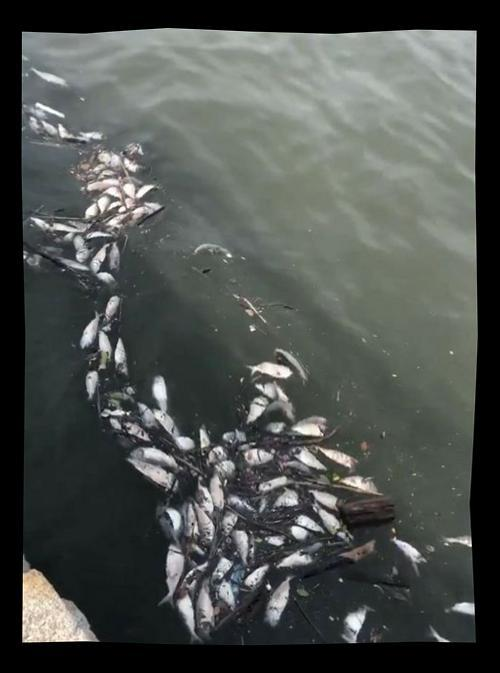Dead Animals Pollution: (122, 365, 408, 651), (31, 136, 158, 281)
